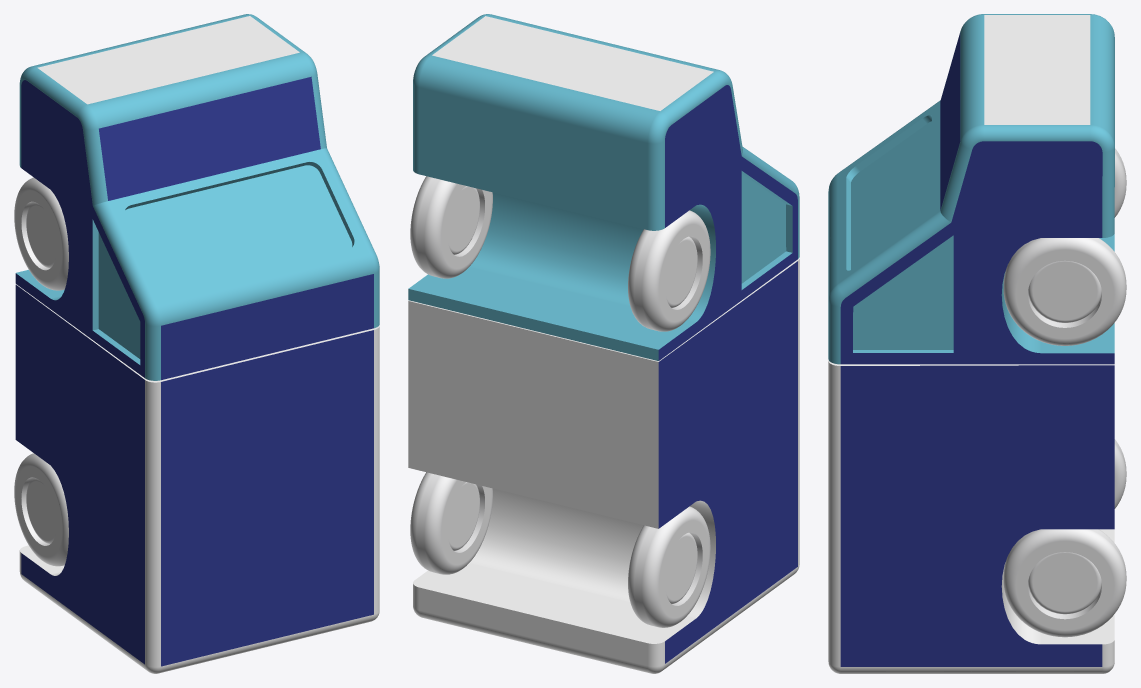
Rendered from Track.fbx.
3 views of the same model, side by side, from view 1: azimuth 30°, elevation 25°; view 2: azimuth 150°, elevation 25°; view 3: azimuth 270°, elevation 25° (orthographic). The views are drawn at different scales.
Visible parts, largest first — view 1: Body10, フロント, タイヤ, タイヤ (3); view 2: Body10, フロント, タイヤ (3), タイヤ, タイヤ (1), タイヤ (2); view 3: Body10, フロント, タイヤ (2), タイヤ (1), タイヤ, タイヤ (3).
Part boxes in pixels (x1=…): Body10: x1=15, y1=284, x2=379, y2=673; フロント: x1=15, y1=14, x2=379, y2=380; タイヤ: x1=14, y1=453, x2=68, y2=566; タイヤ (3): x1=14, y1=177, x2=68, y2=290; Body10: x1=408, y1=258, x2=799, y2=673; フロント: x1=408, y1=14, x2=799, y2=360; タイヤ (3): x1=628, y1=210, x2=710, y2=331; タイヤ: x1=628, y1=506, x2=710, y2=627; タイヤ (1): x1=410, y1=176, x2=492, y2=278; タイヤ (2): x1=410, y1=472, x2=492, y2=574; Body10: x1=828, y1=359, x2=1114, y2=673; フロント: x1=828, y1=14, x2=1114, y2=364; タイヤ (2): x1=1003, y1=529, x2=1126, y2=637; タイヤ (1): x1=1003, y1=238, x2=1126, y2=345; タイヤ: x1=1114, y1=439, x2=1126, y2=508; タイヤ (3): x1=1114, y1=148, x2=1126, y2=217.
Size of the model in its own units: 115 by 245 by 121.
